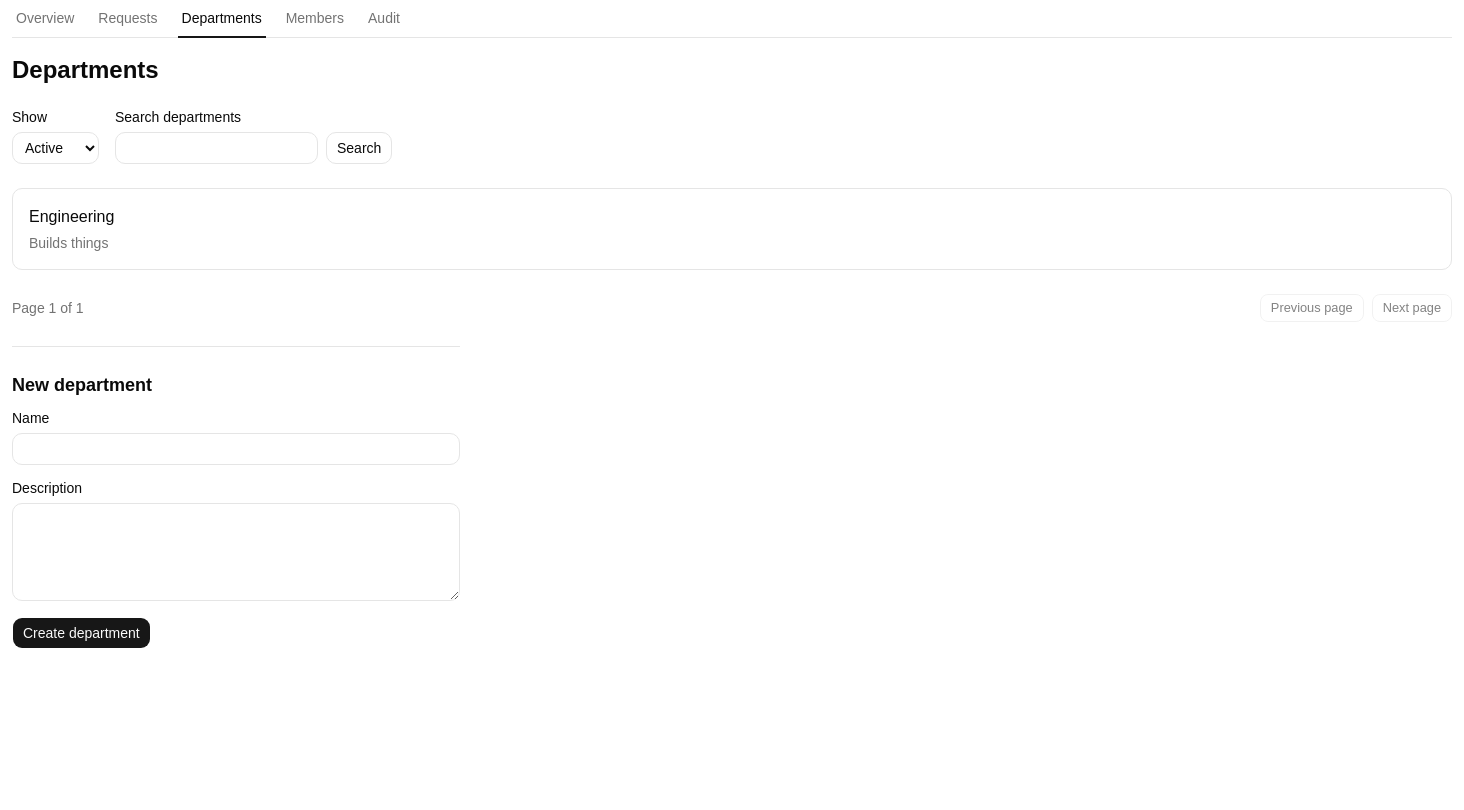
Test: DepartmentsPage › shows a taken name under the field
In the field labelled "Name": (236, 449) [12,433,460,465], type "Engineering"
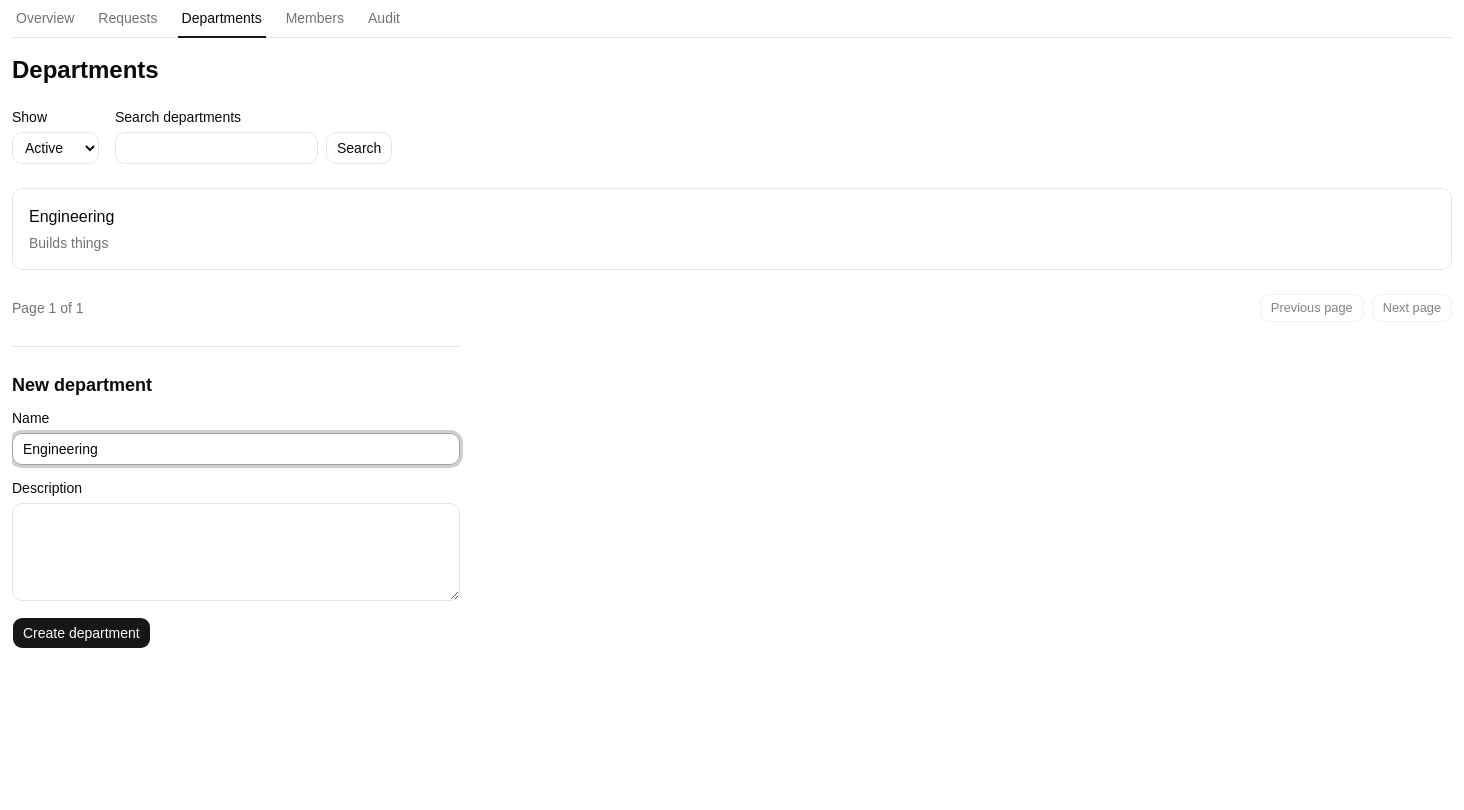
Click the button "Create department": (81, 633) [12,617,151,649]
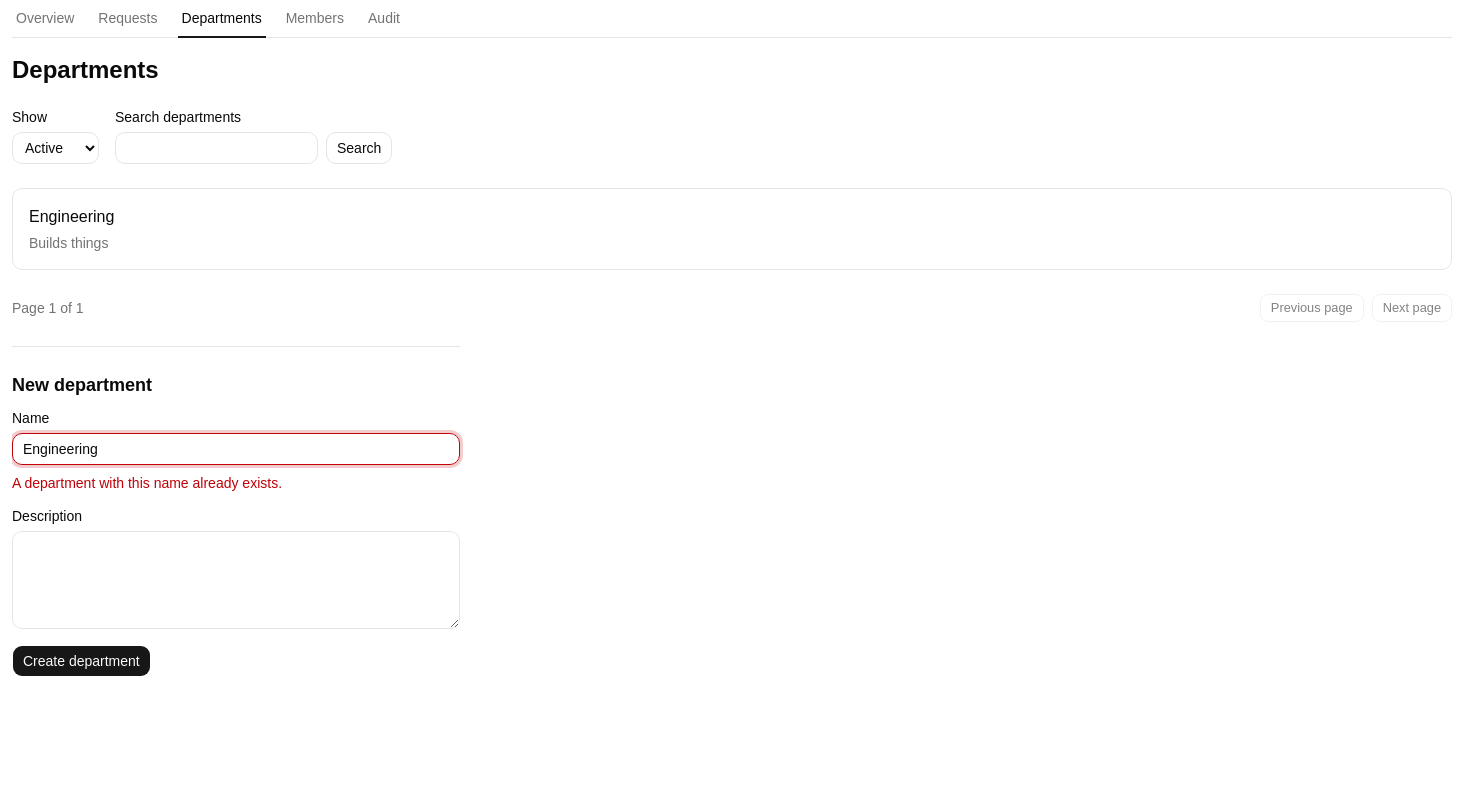
Expected: the text "A department with this name already exists." is shown, [12,475,282,491]
